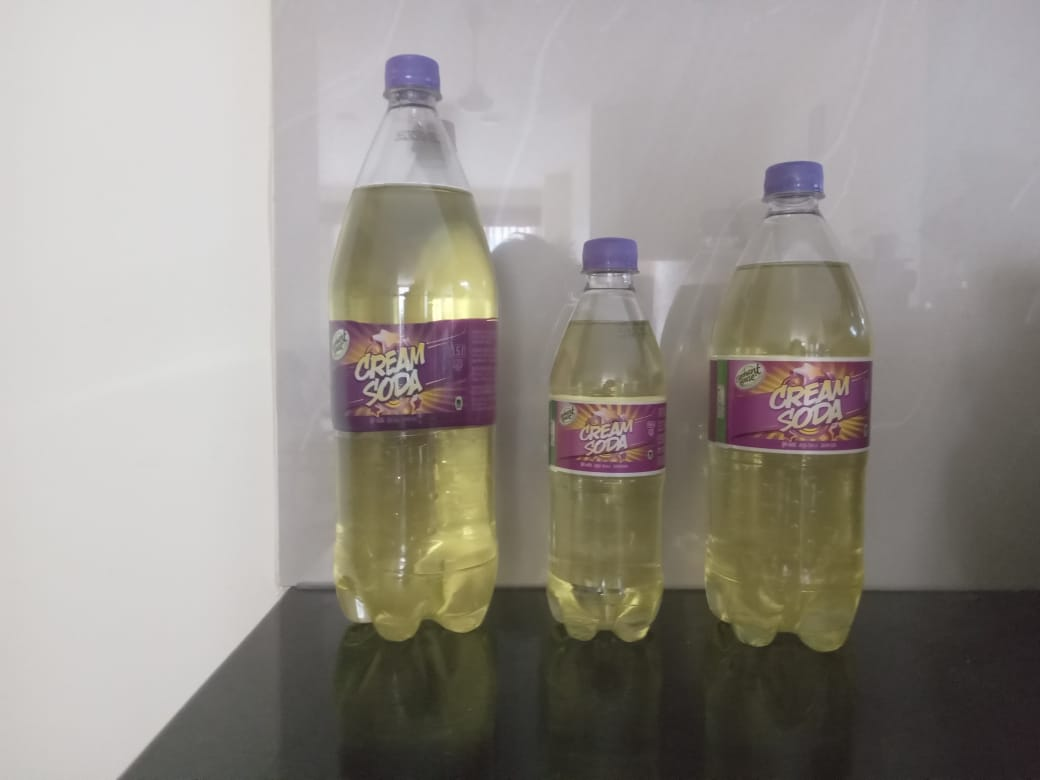L: (324, 54, 510, 647)
M: (699, 159, 875, 654)
S: (541, 238, 675, 644)
